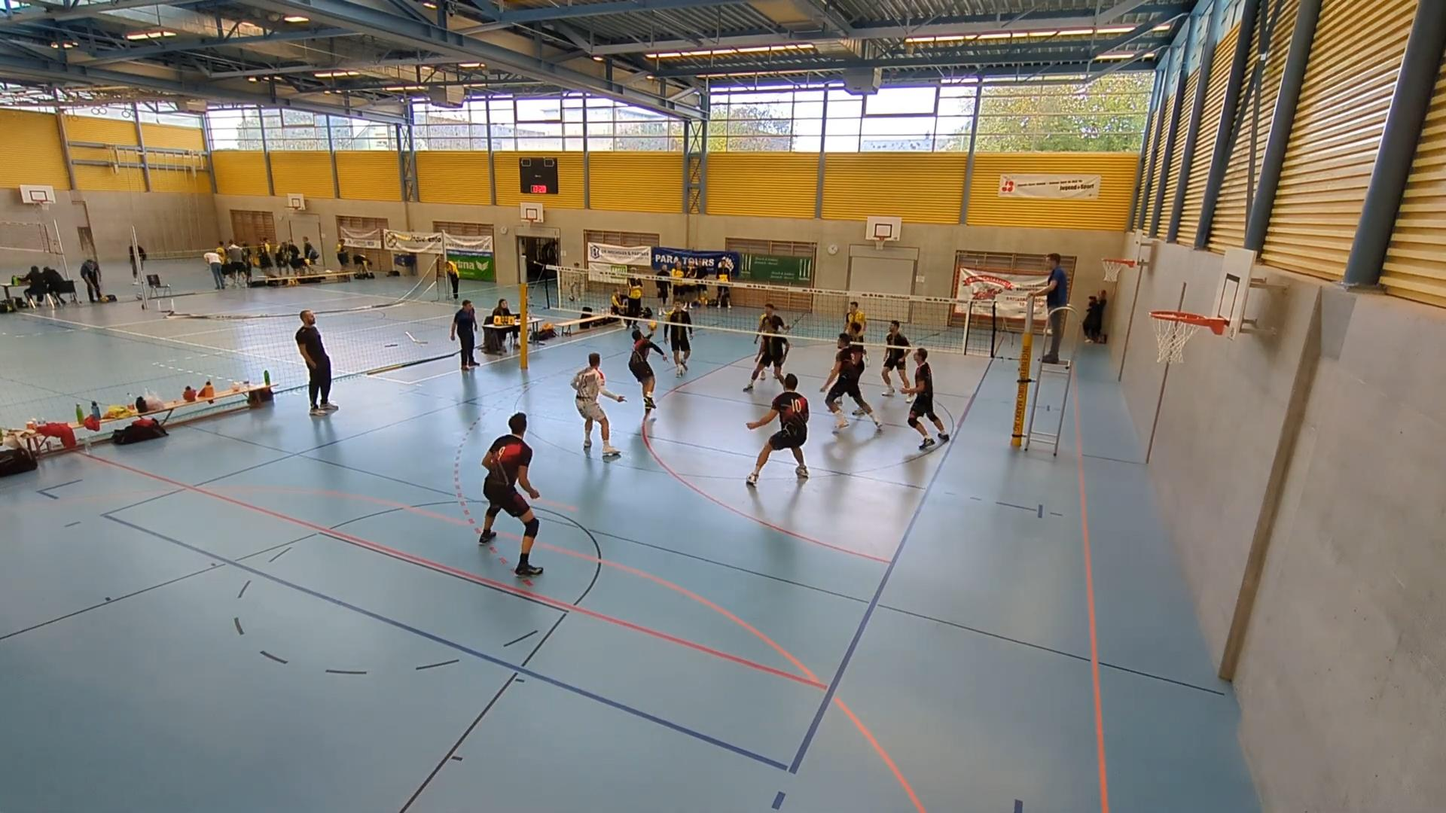difesa: (625, 325, 670, 416)
